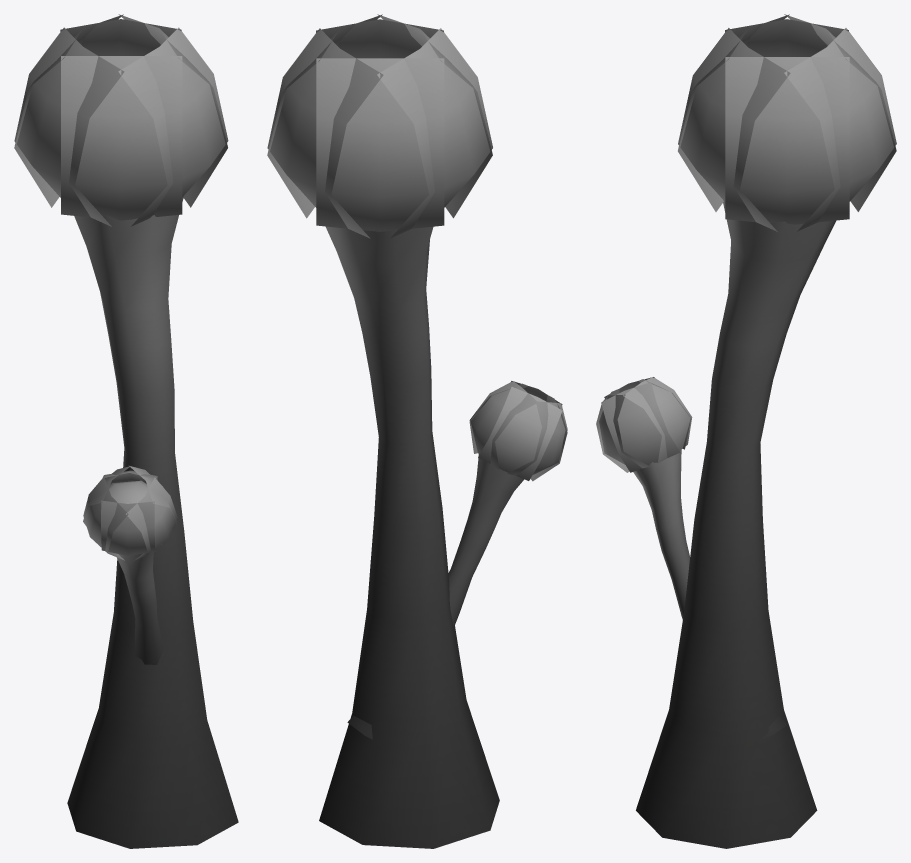
Rendered from BerrySapling_MESH_01.fbx.
The picture shows the model from 3 angles, left to right: view 1: azimuth 30°, elevation 25°; view 2: azimuth 150°, elevation 25°; view 3: azimuth 270°, elevation 25°; orthographic projection. The views are drawn at different scales.
Parts seen in each view (by area): view 1: BerrySapling_MESH_01; view 2: BerrySapling_MESH_01; view 3: BerrySapling_MESH_01.
Part boxes in pixels (x1,y1,x2,y2): BerrySapling_MESH_01: (14, 14, 238, 848); BerrySapling_MESH_01: (267, 14, 567, 848); BerrySapling_MESH_01: (596, 14, 896, 848).
Size of the model in its own units: 17.61 by 67.42 by 23.83.
